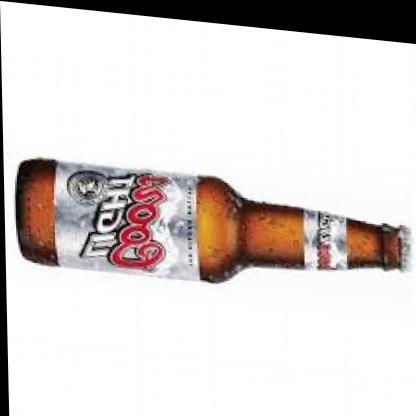trash: (16, 159, 409, 281)
